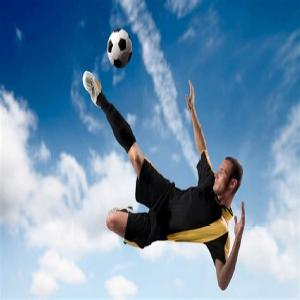Football: (104, 27, 135, 70)
